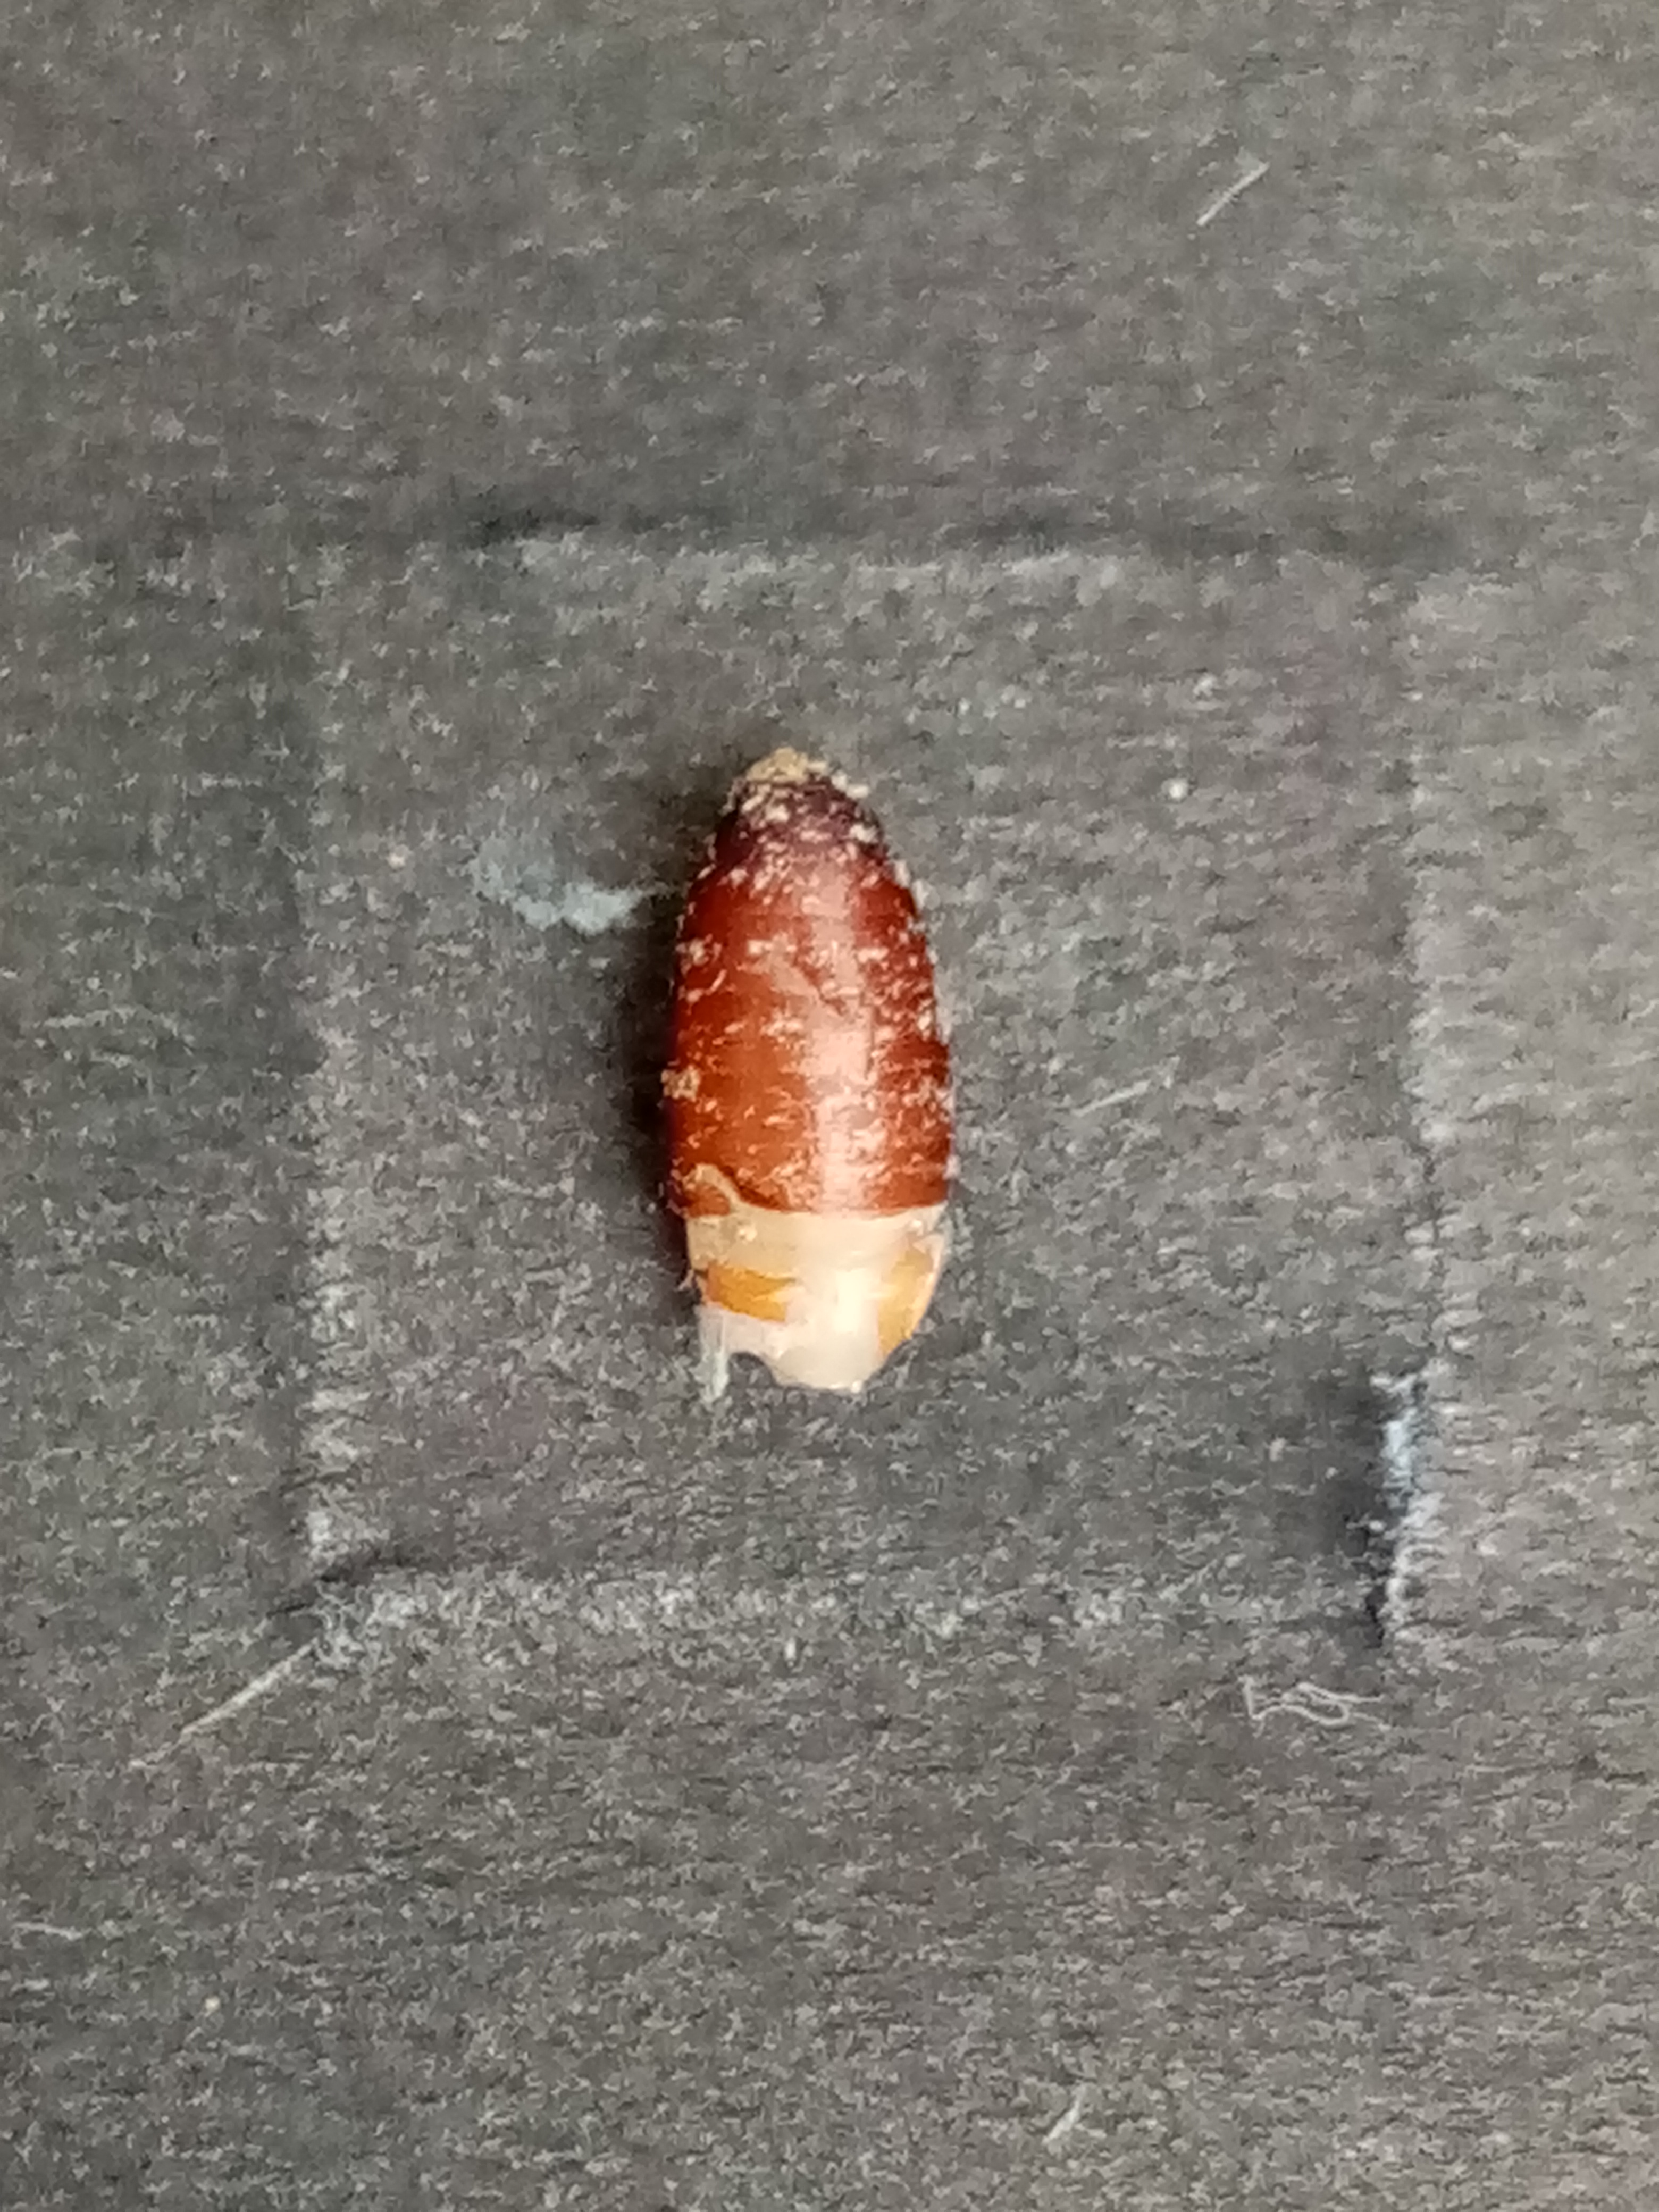pupa: (687, 1228, 948, 1397)
